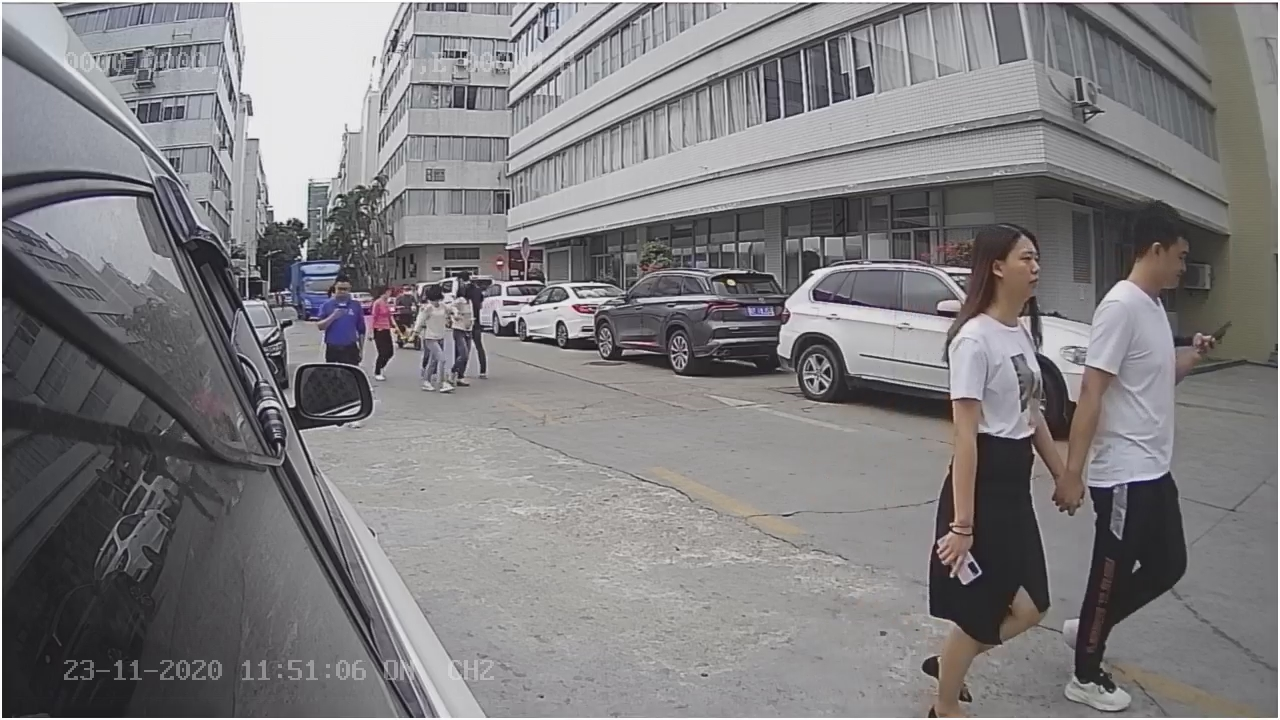person: (909, 203, 1084, 717)
